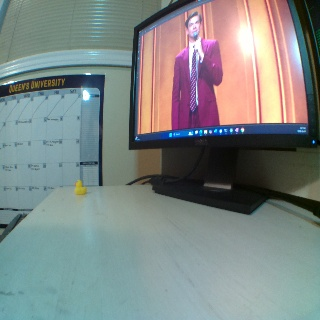duck_regular: (73, 178, 87, 194)
